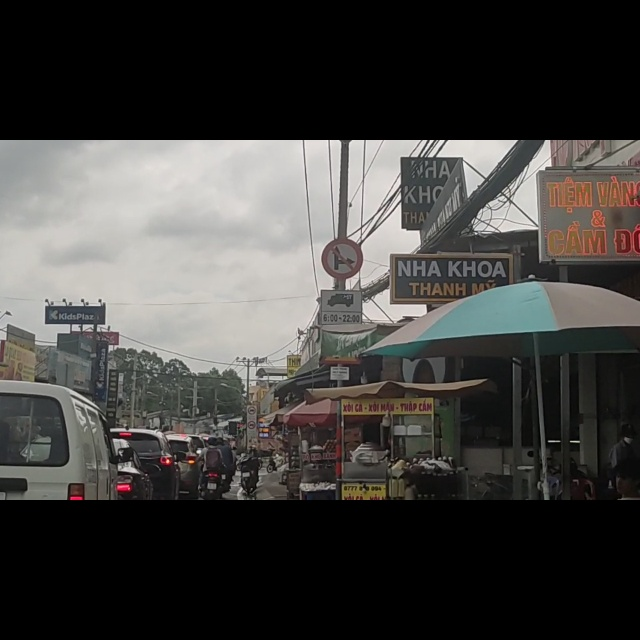bien_cam: (321, 177, 363, 247), (320, 268, 361, 329)
